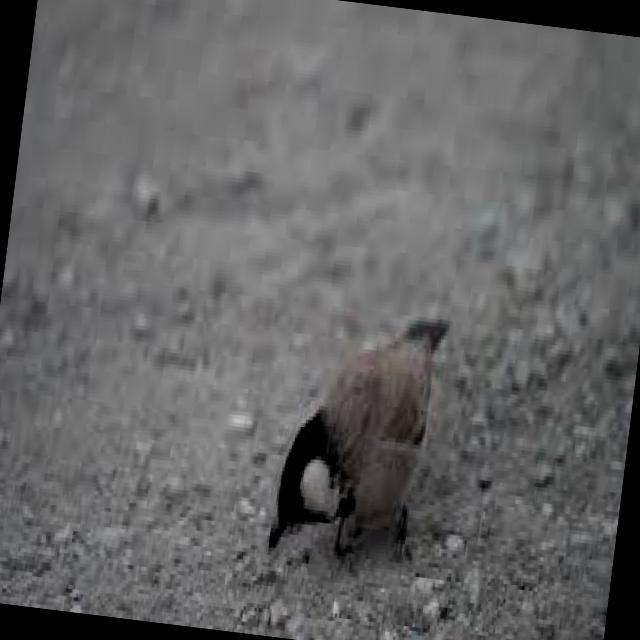bird: (256, 294, 457, 591)
